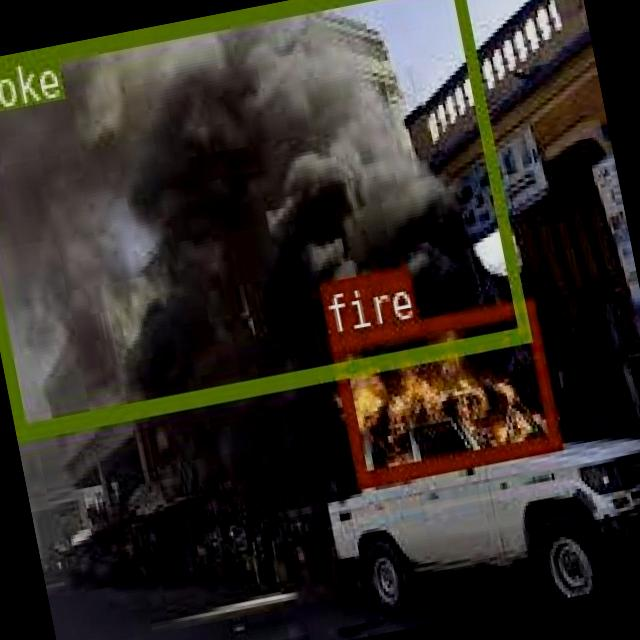fire: (328, 298, 558, 487)
smoke: (0, 0, 527, 436)
